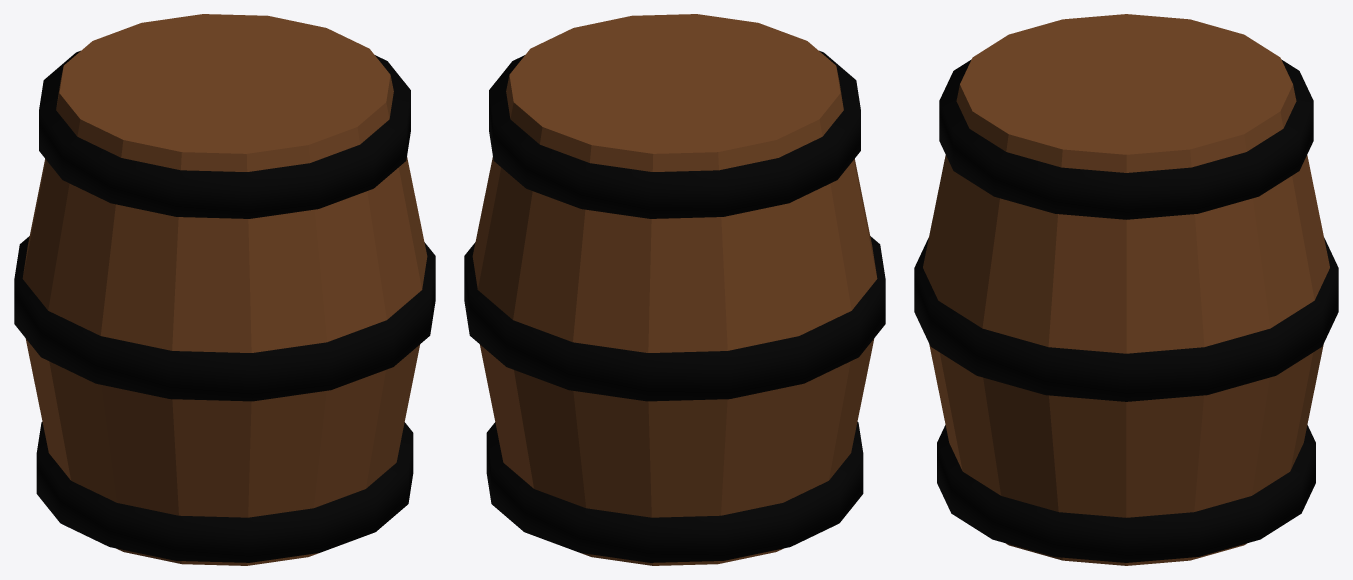
The model's file is Tonneaux.fbx.
3 views of the same model, side by side, from view 1: azimuth 30°, elevation 25°; view 2: azimuth 150°, elevation 25°; view 3: azimuth 270°, elevation 25° (orthographic).
Visible parts, largest first — view 1: Tonneaux; view 2: Tonneaux; view 3: Tonneaux.
Part boxes in pixels (box(x1,y1,x2,y2)): Tonneaux: box(14, 14, 435, 565); Tonneaux: box(464, 14, 885, 565); Tonneaux: box(914, 14, 1338, 565).
Bounding box in the file's own units: 178 × 190 × 178.
